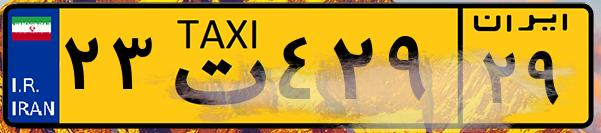2: (330, 28, 385, 110), (57, 26, 110, 100), (475, 38, 525, 113)
3: (110, 28, 158, 98)
4: (270, 28, 330, 110)
9: (385, 28, 445, 110), (525, 38, 570, 115)
ت: (158, 12, 270, 120)
